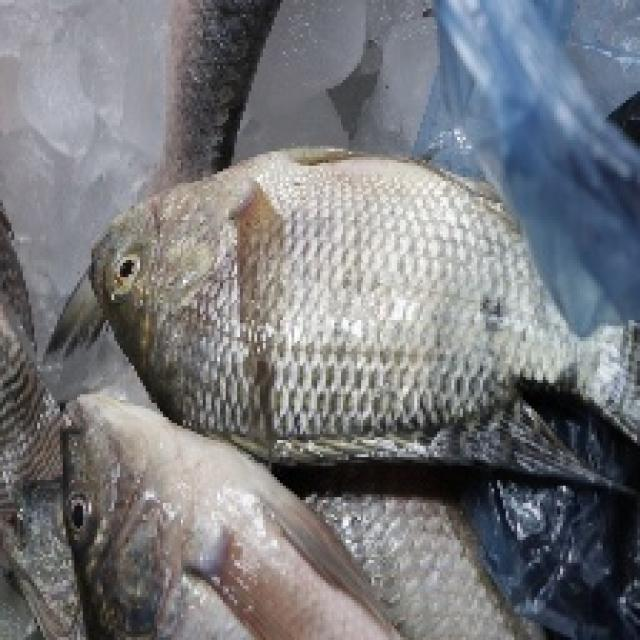Fresh: (86, 158, 473, 434)
